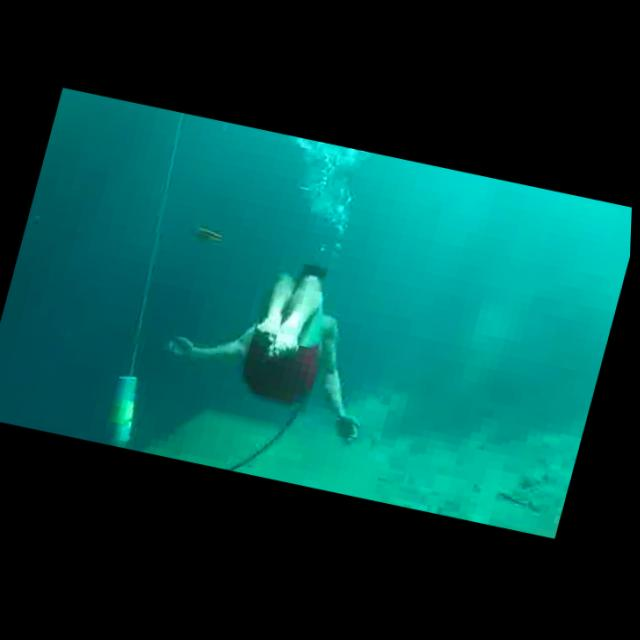human: (151, 235, 408, 450)
